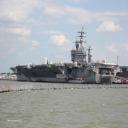Portanaves: (10, 25, 124, 86)
